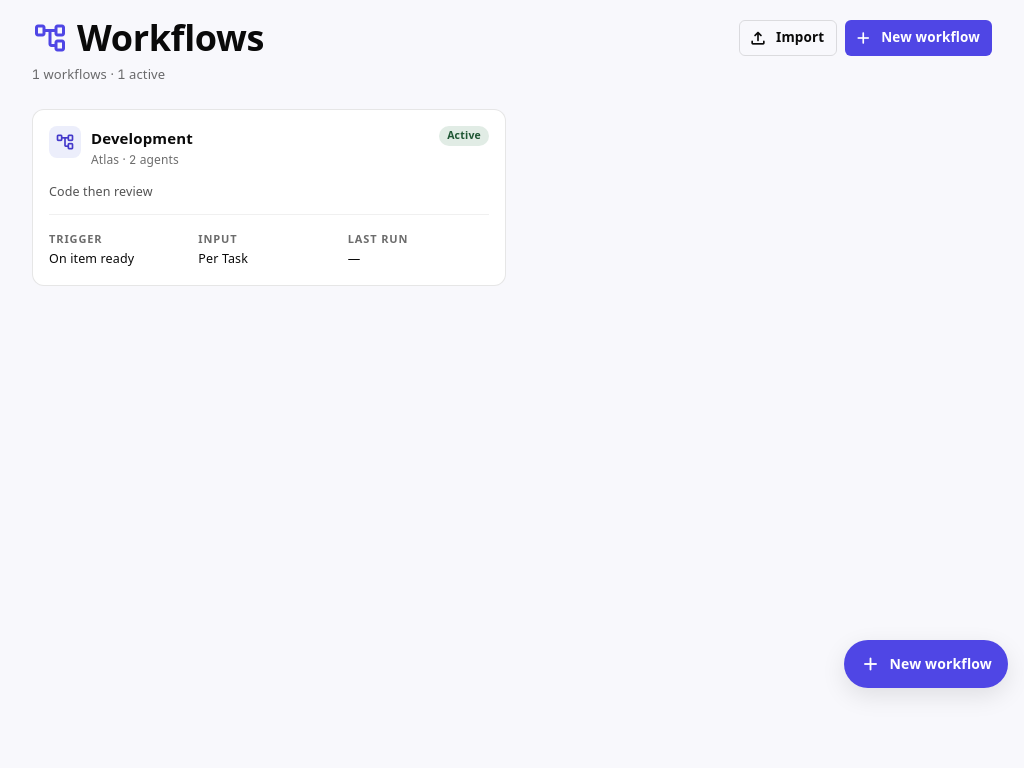
Workflows page › offers the create FAB on mobile, where the header button is hidden
Check: the text "Development" is shown, box x1=91 y1=128 x2=193 y2=148
Click the 2nd button labelled "New workflow".
click(926, 664)  # box x1=844 y1=640 x2=1008 y2=688
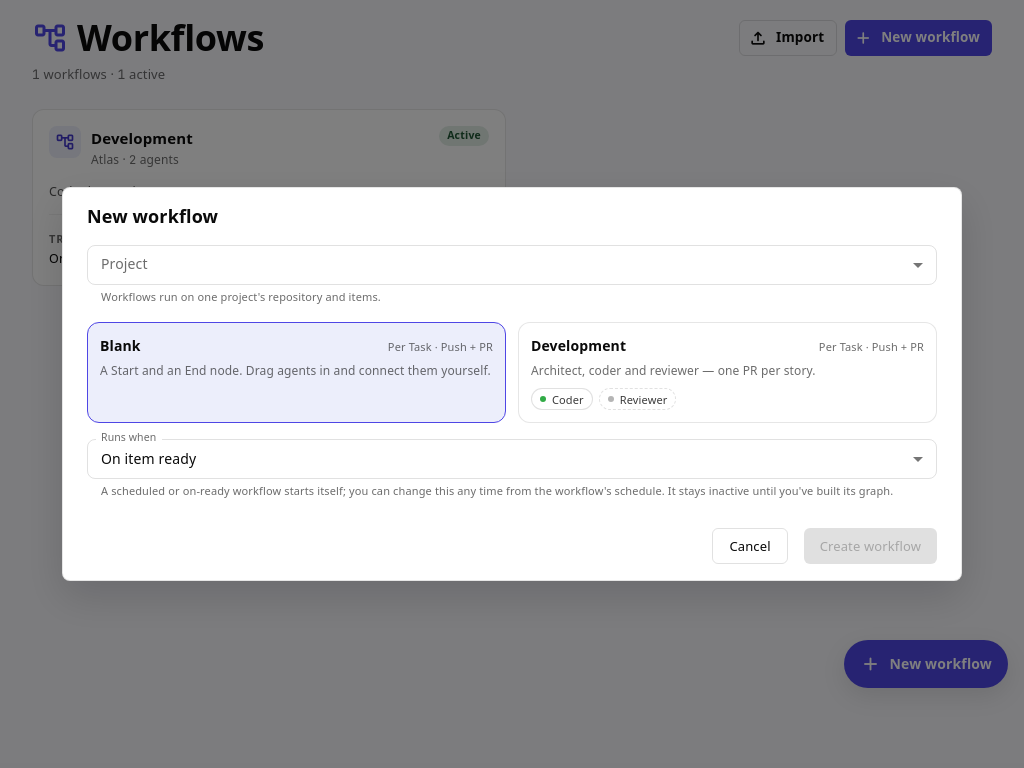
Check: the button "Create workflow" is shown, box x1=804 y1=528 x2=937 y2=564
